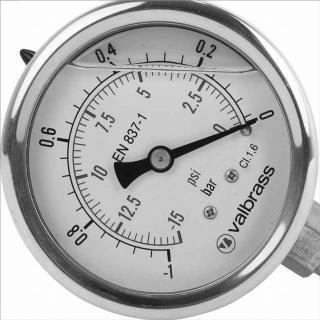gauge: (0, 0, 320, 320), (212, 111, 257, 147), (162, 209, 196, 256), (146, 144, 174, 172), (250, 115, 260, 126)
